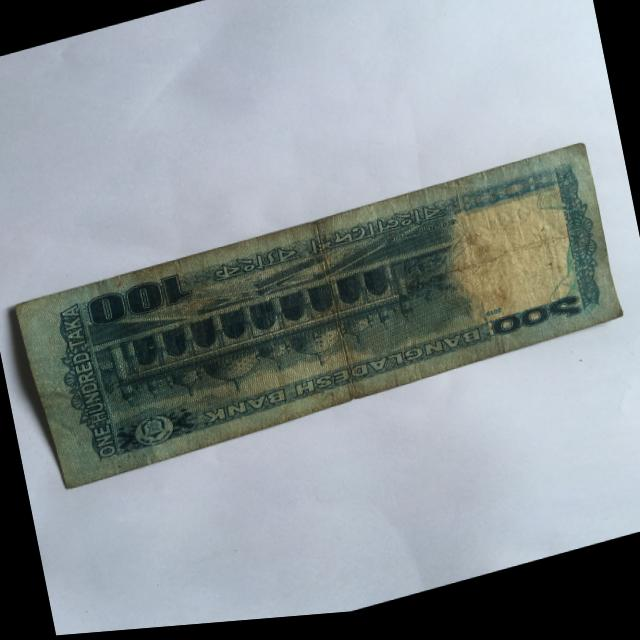Taka: (9, 144, 636, 487)
